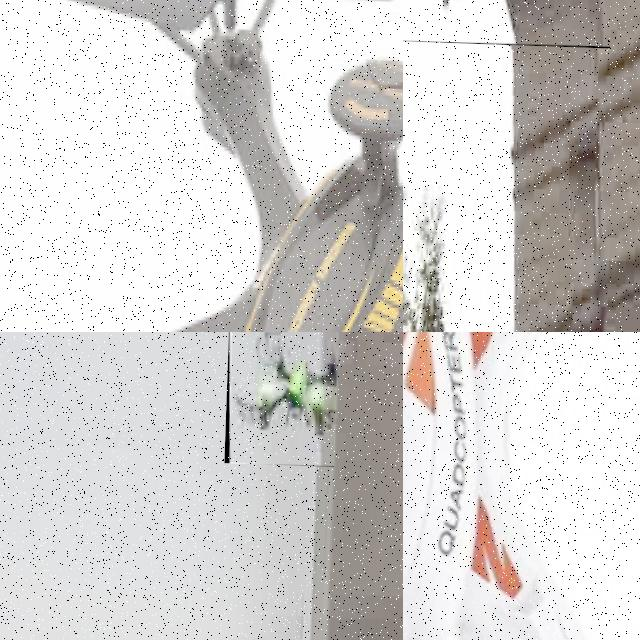drone: (0, 0, 403, 332), (403, 332, 640, 640), (224, 332, 339, 466)
